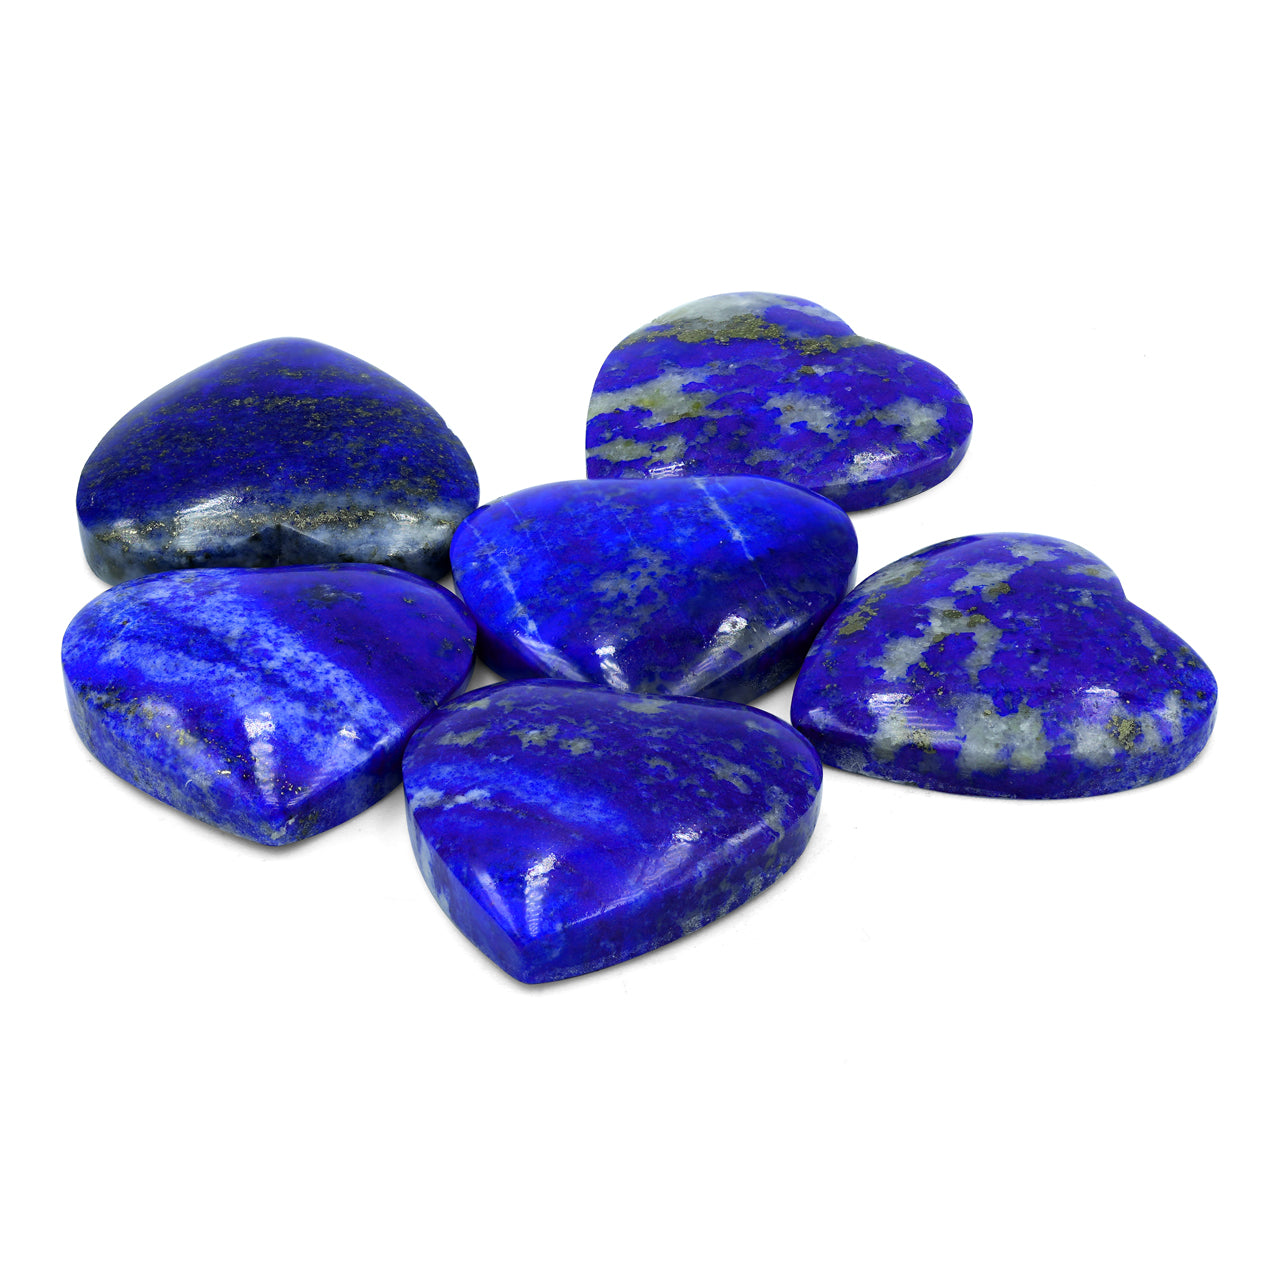Lapis_Lazuli: (42, 559, 469, 845), (445, 470, 857, 699)
